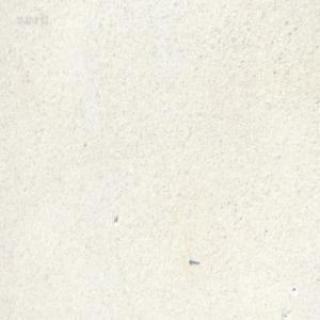Nailtrack_idkeyframe: (187, 255, 199, 264)
